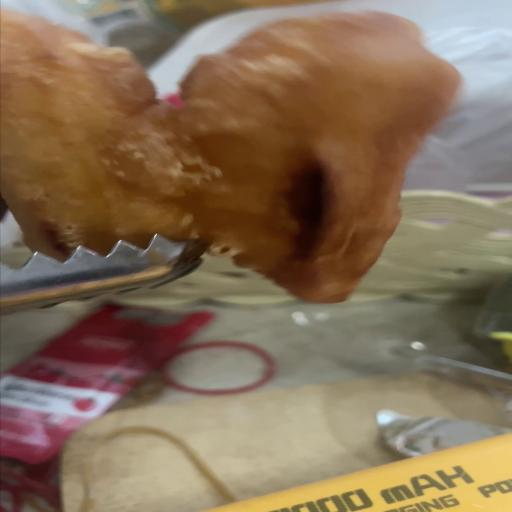street_burnt_defect: (0, 10, 460, 302)
